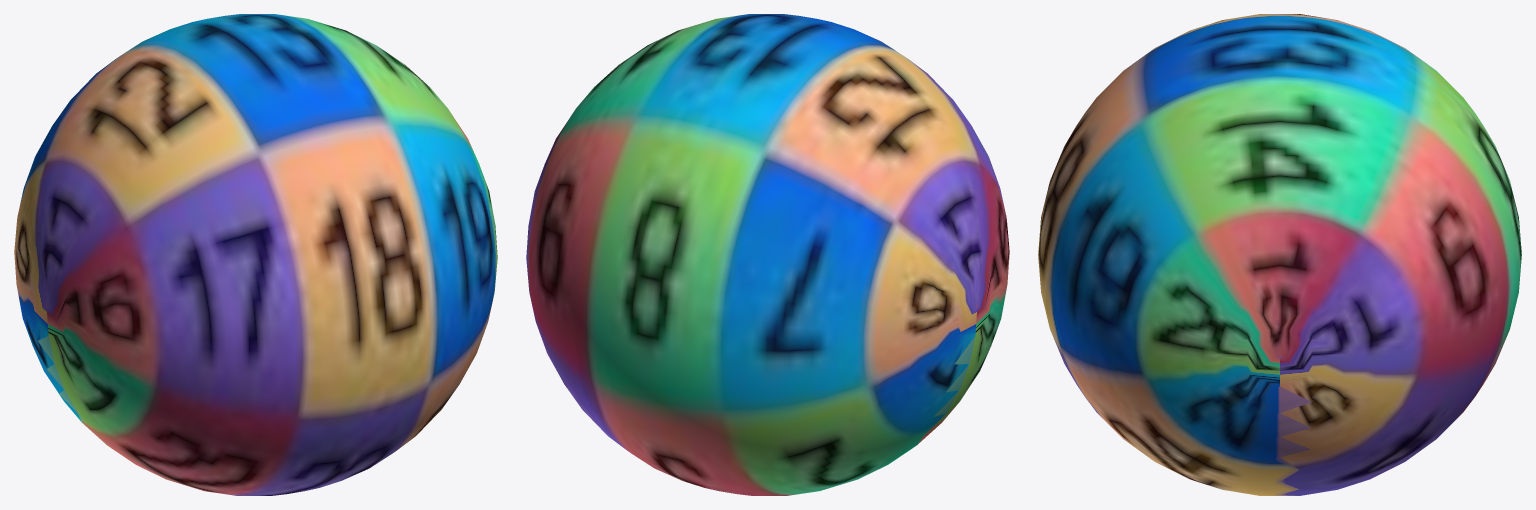
File: colored_sphere.obj
3 views of the same model, side by side, from view 1: azimuth 30°, elevation 25°; view 2: azimuth 150°, elevation 25°; view 3: azimuth 270°, elevation 25° (orthographic).
Size of the model in its own units: 1 by 1 by 1.
1 material, 1 textured.
